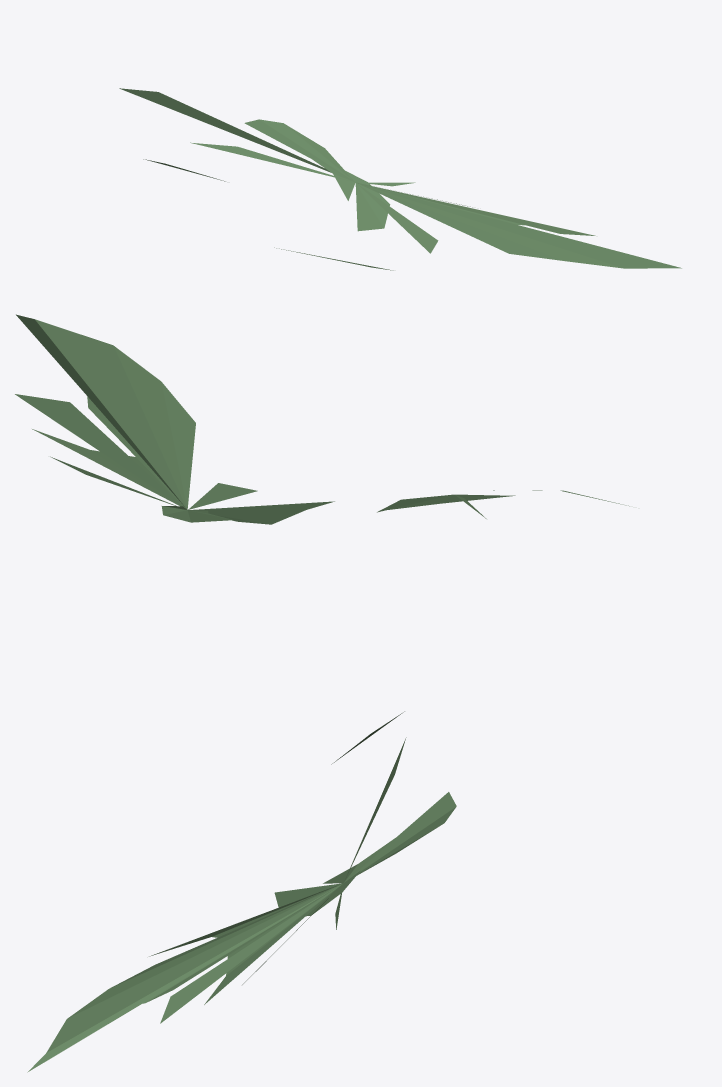
The model's file is c_1670_17815_forest.glb.
3 views of the same model, one above another, from view 1: azimuth 30°, elevation 25°; view 2: azimuth 150°, elevation 25°; view 3: azimuth 270°, elevation 25° (orthographic). The views are drawn at different scales.
Parts seen in each view (by area): view 1: geometry_0; view 2: geometry_0; view 3: geometry_0.
Boxes of the visible parts, x1,y1,x2,y2 form: geometry_0: (119, 88, 681, 270); geometry_0: (15, 314, 629, 524); geometry_0: (27, 711, 456, 1072).
Bounding box in the file's own units: 338 × 80.56 × 326.
